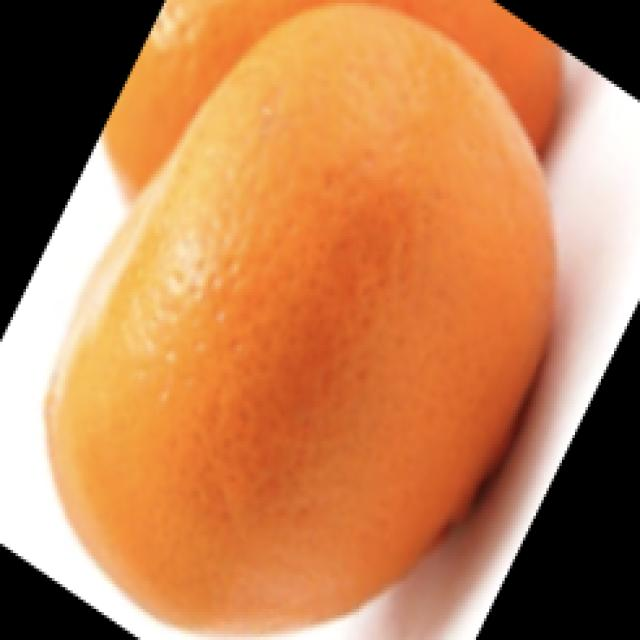matang: (43, 6, 547, 624), (79, 8, 563, 209)
